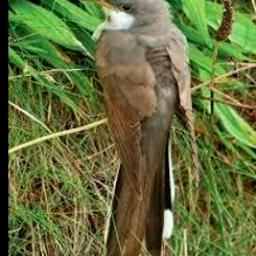Cuckoo: (82, 0, 193, 256)
